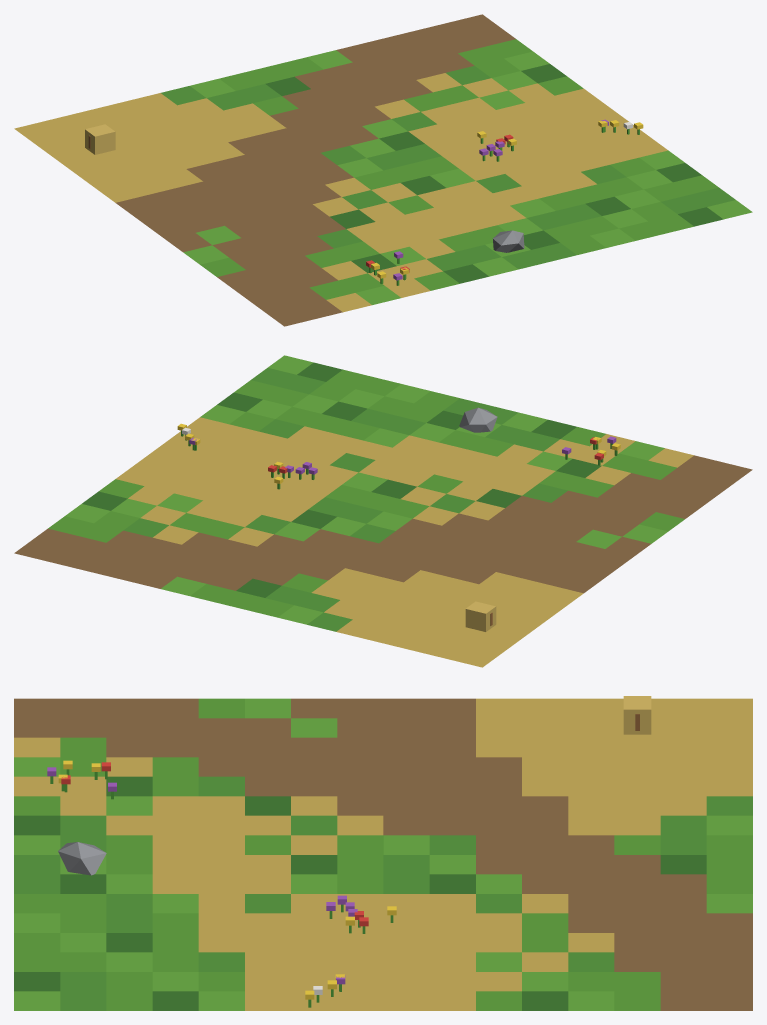
Rendered from chunk_2_12.glb.
The picture shows the model from 3 angles, top to bottom: view 1: azimuth 30°, elevation 25°; view 2: azimuth 150°, elevation 25°; view 3: azimuth 270°, elevation 25°; orthographic projection. The views are drawn at different scales.
Parts seen in each view (by area): view 1: chunk_2_12; view 2: chunk_2_12; view 3: chunk_2_12.
Boxes of the visible parts, <box> form: chunk_2_12: <box>14,14,752,326</box>; chunk_2_12: <box>14,355,752,667</box>; chunk_2_12: <box>14,696,752,1010</box>.
Bounding box in the file's own units: 16 × 0.994 × 16.
